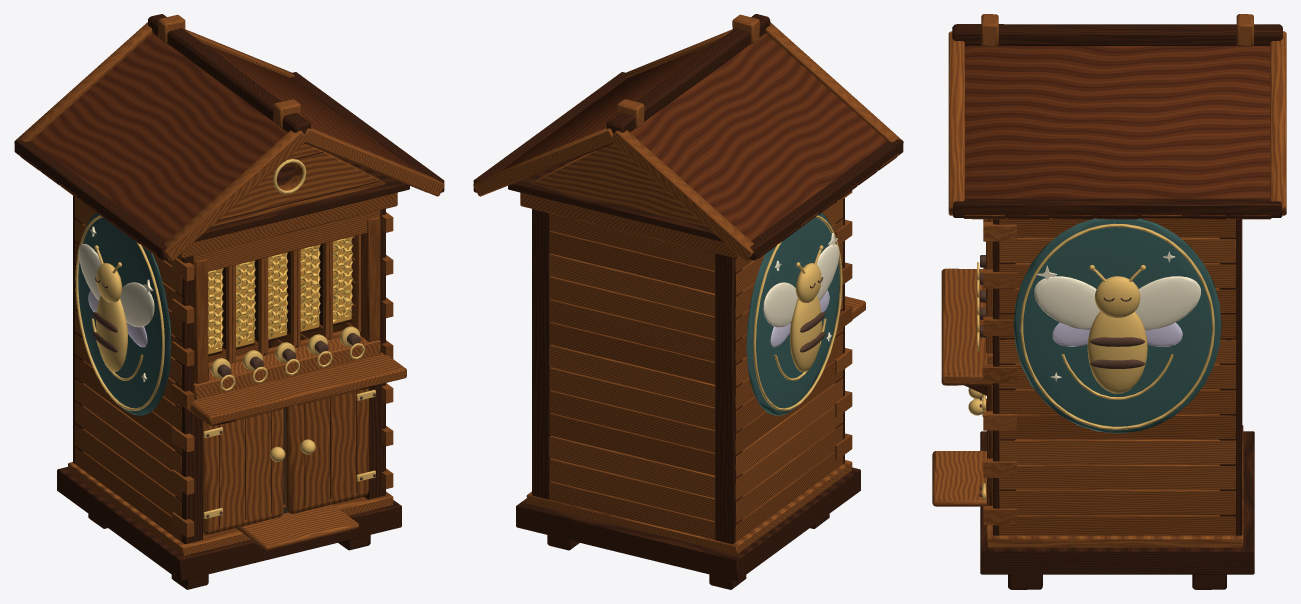
The model's file is beehive-dreamy-medium.glb.
3 views of the same model, side by side, from view 1: azimuth 30°, elevation 25°; view 2: azimuth 150°, elevation 25°; view 3: azimuth 270°, elevation 25° (orthographic). The views are drawn at different scales.
Visible parts, largest first — view 1: Hive_Cedro miele 3.001, Hive_Cedro tostato • scandole, Hive_Noce • bordi e incastri.001, Hive_Cedro miele 4.001, Hive_Cedro miele 2.001, Hive_Cedro miele 1.001, Hive_Smalto salvia profondo, Hive_Ottone satinato / miele, Hive_Miele luminoso, Hive_Cera ambrata, Hive_Ali • avorio perlato, Hive_Ape • cacao; view 2: Hive_Cedro miele 3.001, Hive_Noce • bordi e incastri.001, Hive_Cedro tostato • scandole, Hive_Cedro miele 2.001, Hive_Cedro miele 4.001, Hive_Cedro miele 1.001, Hive_Smalto salvia profondo, Hive_Ottone satinato / miele, Hive_Ali • avorio perlato; view 3: Hive_Cedro tostato • scandole, Hive_Noce • bordi e incastri.001, Hive_Cedro miele 3.001, Hive_Smalto salvia profondo, Hive_Cedro miele 4.001, Hive_Cedro miele 1.001, Hive_Cedro miele 2.001, Hive_Ottone satinato / miele, Hive_Ali • avorio perlato, Hive_Ali • madreperla lavanda, Hive_Ape • cacao.
Part boxes in pixels (<box>): Hive_Cedro miele 3.001: <box>14,22,444,555</box>; Hive_Cedro tostato • scandole: <box>19,33,426,243</box>; Hive_Noce • bordi e incastri.001: <box>14,14,444,589</box>; Hive_Cedro miele 4.001: <box>75,14,393,550</box>; Hive_Cedro miele 2.001: <box>75,192,397,537</box>; Hive_Cedro miele 1.001: <box>59,183,393,541</box>; Hive_Smalto salvia profondo: <box>78,212,171,415</box>; Hive_Ottone satinato / miele: <box>75,159,375,518</box>; Hive_Miele luminoso: <box>208,236,352,349</box>; Hive_Cera ambrata: <box>208,237,351,354</box>; Hive_Ali • avorio perlato: <box>78,226,154,381</box>; Hive_Ape • cacao: <box>92,277,375,517</box>; Hive_Cedro miele 3.001: <box>473,22,903,554</box>; Hive_Noce • bordi e incastri.001: <box>473,14,903,589</box>; Hive_Cedro tostato • scandole: <box>498,33,887,258</box>; Hive_Cedro miele 2.001: <box>520,192,852,539</box>; Hive_Cedro miele 4.001: <box>549,14,852,498</box>; Hive_Cedro miele 1.001: <box>549,153,898,542</box>; Hive_Smalto salvia profondo: <box>746,213,839,415</box>; Hive_Ottone satinato / miele: <box>753,215,842,410</box>; Hive_Ali • avorio perlato: <box>763,233,839,341</box>; Hive_Cedro tostato • scandole: <box>965,45,1271,219</box>; Hive_Noce • bordi e incastri.001: <box>952,24,1282,589</box>; Hive_Cedro miele 3.001: <box>941,31,1286,547</box>; Hive_Smalto salvia profondo: <box>1013,218,1221,433</box>; Hive_Cedro miele 4.001: <box>932,14,1253,506</box>; Hive_Cedro miele 1.001: <box>964,215,1235,535</box>; Hive_Cedro miele 2.001: <box>983,218,1235,525</box>; Hive_Ottone satinato / miele: <box>968,223,1214,499</box>; Hive_Ali • avorio perlato: <box>1034,251,1200,381</box>; Hive_Ali • madreperla lavanda: <box>1052,322,1182,346</box>; Hive_Ape • cacao: <box>979,255,1144,496</box>.
Size of the model in its own units: 2.24 by 3.56 by 2.19.
Materials: 14 (6 with a texture image).
